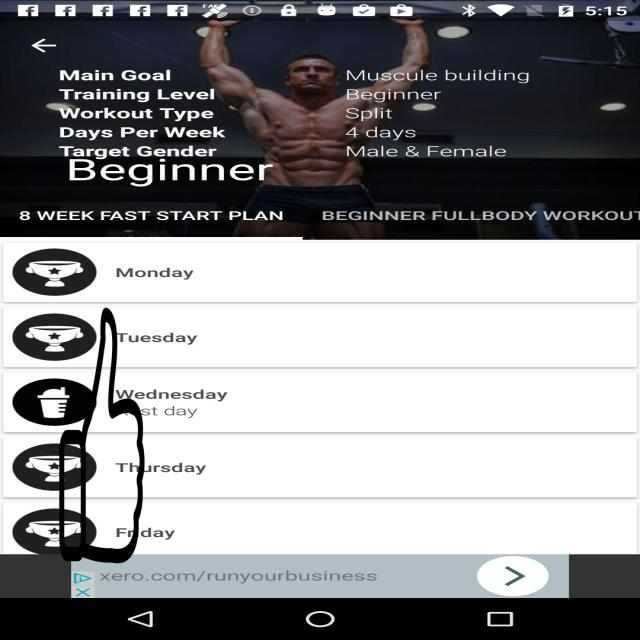privacy zuckering: (58, 308, 146, 563)
